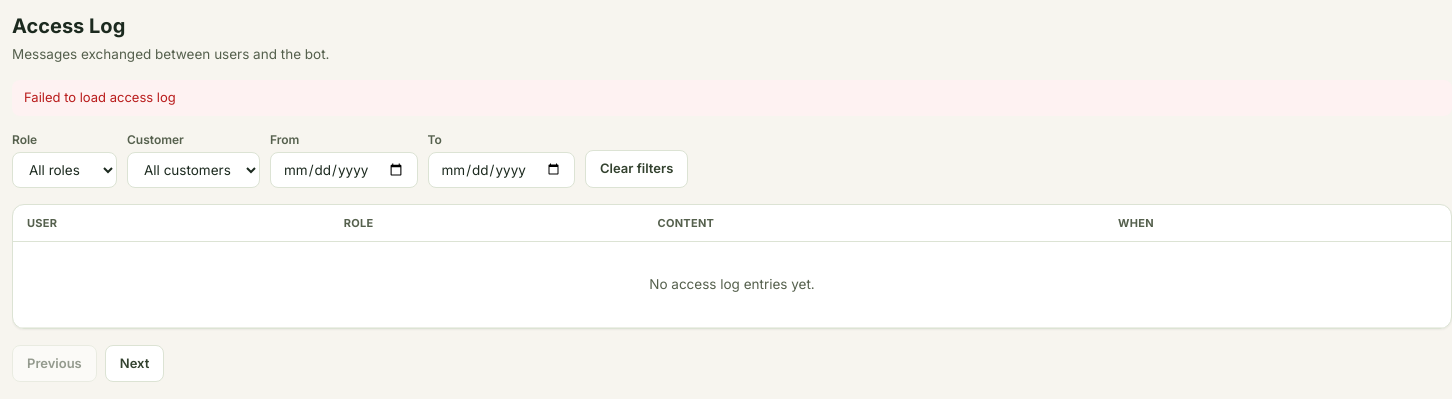
Test: AccessLogPage › clears error state when a load succeeds after a previous failure
Expected: the text "Failed to load access log" is shown, x1=12 y1=80 x2=1451 y2=116
# Trigger next page (which should now succeed)
Click the button "Next" at (135, 363), box x1=105 y1=344 x2=164 y2=382
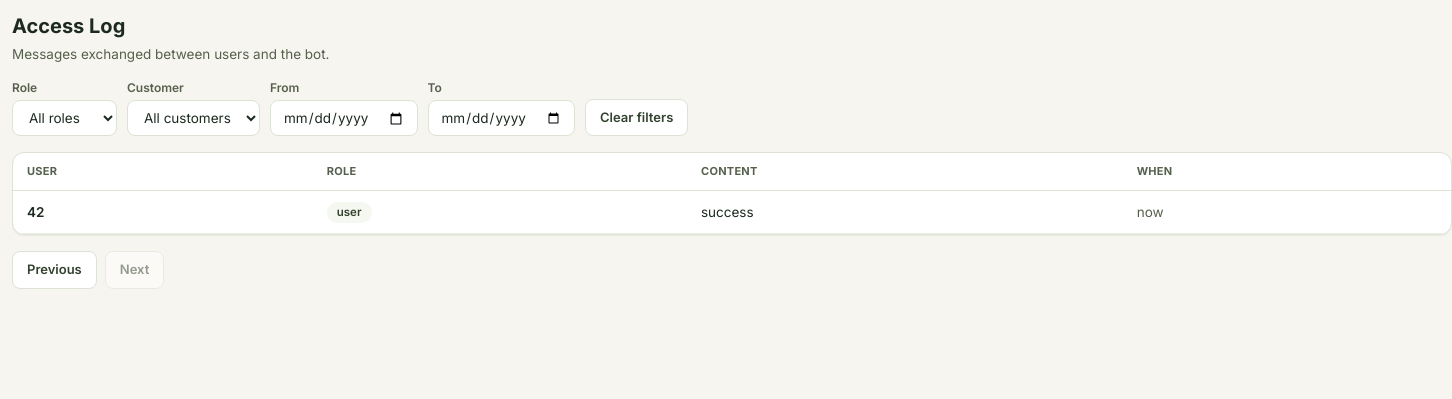
Result: the text "success" is shown at x1=687 y1=191 x2=1123 y2=234
Result: the message "Failed to load access log" is gone
